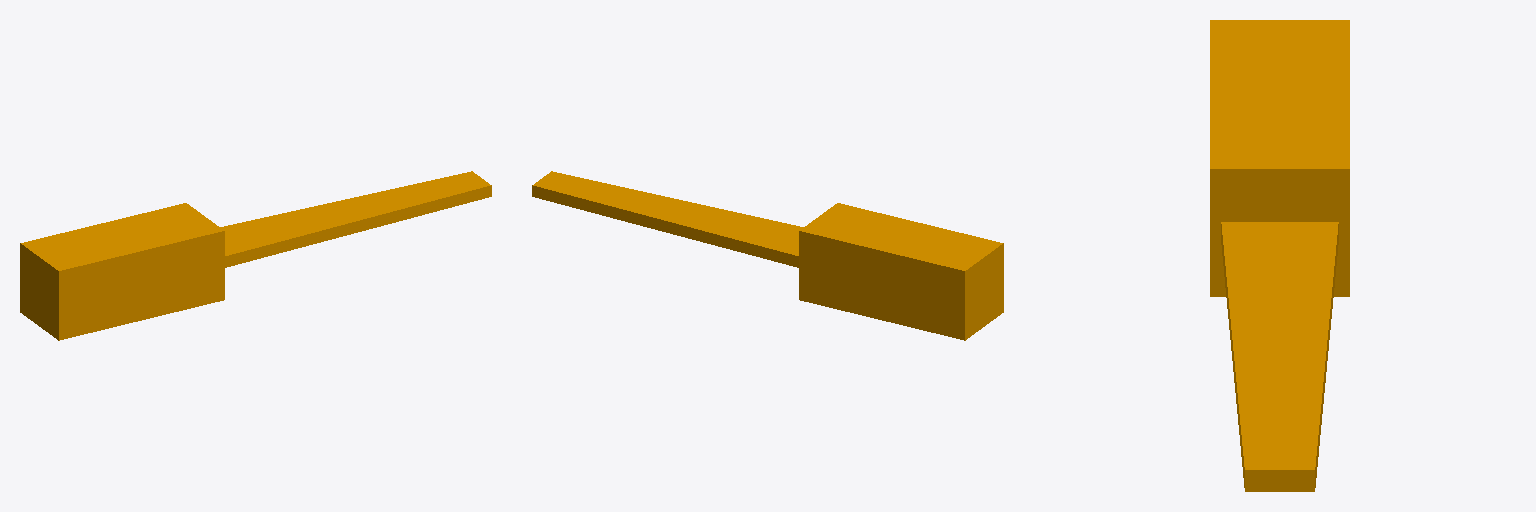
robot.urdf — paring_knife:
<?xml version="1.0"?>
<robot name="paring_knife">
  <link name="paring_knife">
    <visual>
      <origin xyz="0 0 0" rpy="0 0 0"/>
      <geometry>
        <mesh filename="paring_knife.obj" scale="1.0 1.0 1.0"/>
      </geometry>
    </visual>
    <collision>
      <origin xyz="0 0 0" rpy="0 0 0"/>
      <geometry>
        <mesh filename="paring_knife.obj" scale="1.0 1.0 1.0"/>
      </geometry>
    </collision>
    <inertial>
      <density value="700"/>
    </inertial>
  </link>
</robot>

--- Facts derived from the render (not from the file) ---
The picture shows the robot from 3 angles, left to right: view 1: azimuth 30°, elevation 25°; view 2: azimuth 150°, elevation 25°; view 3: azimuth 270°, elevation 25°; orthographic projection.
Robot: paring_knife — 1 links, 0 joints (none); root link paring_knife; default pose: every joint at zero.
Visible links, largest first — view 1: paring_knife; view 2: paring_knife; view 3: paring_knife.
Boxes of the visible links, x1,y1,x2,y2 form: paring_knife: (20,171,491,340); paring_knife: (532,171,1003,340); paring_knife: (1210,20,1349,491).
Size in the robot's own frame: 0.16 by 0.024 by 0.024 metres.
Meshes: 1 distinct files referenced, 1 mesh visuals loaded (1 OBJ).
